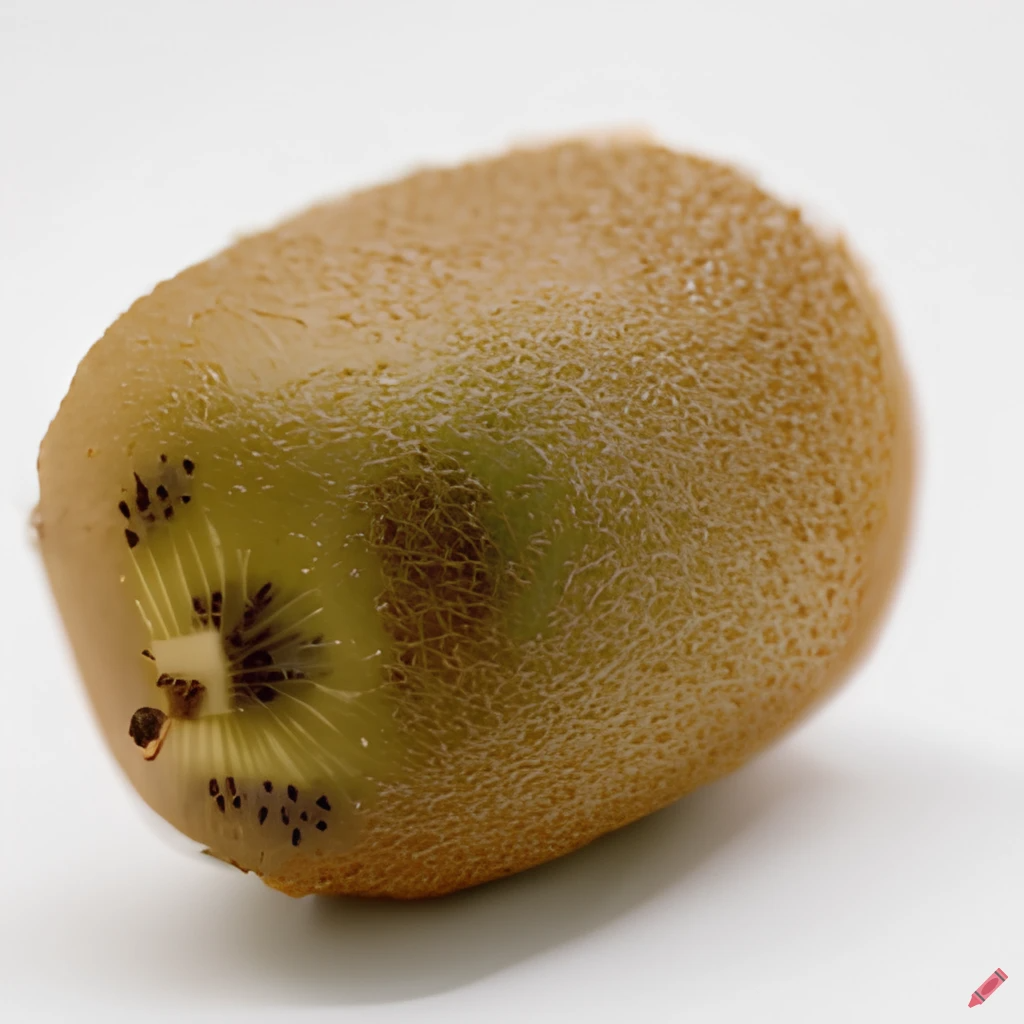Kiwi: (27, 123, 924, 908)
